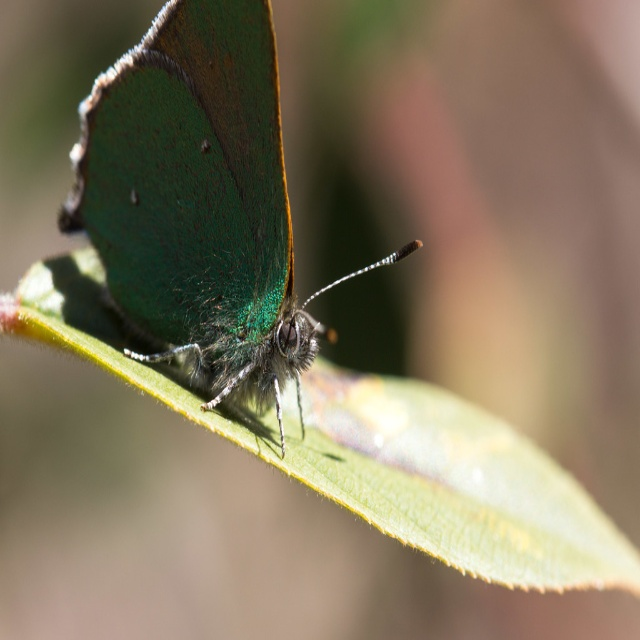Butterfly: (81, 14, 415, 507)
